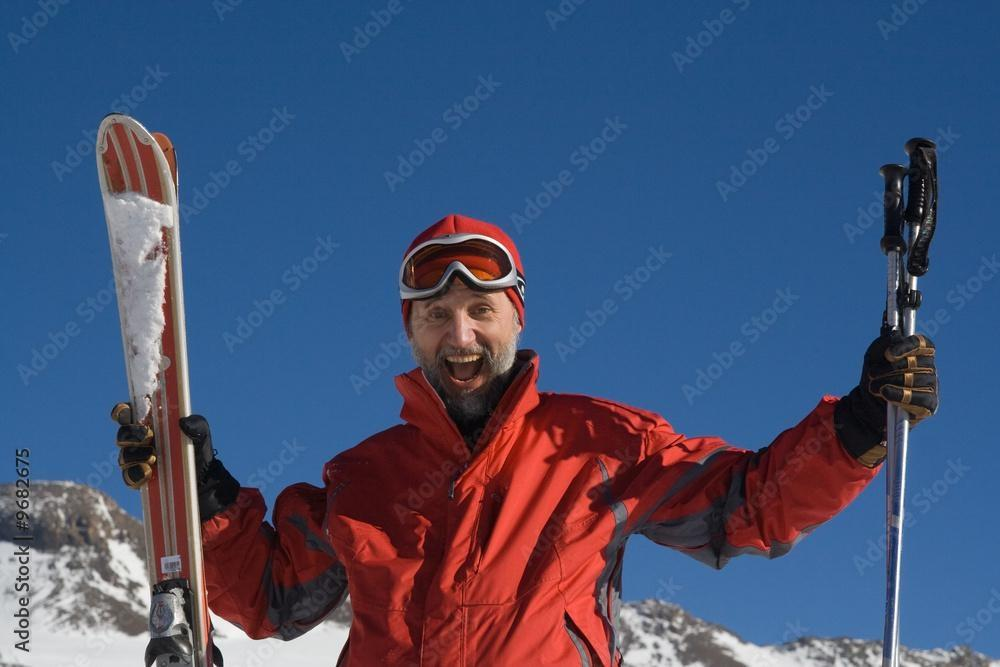Skis: (47, 103, 257, 662)
